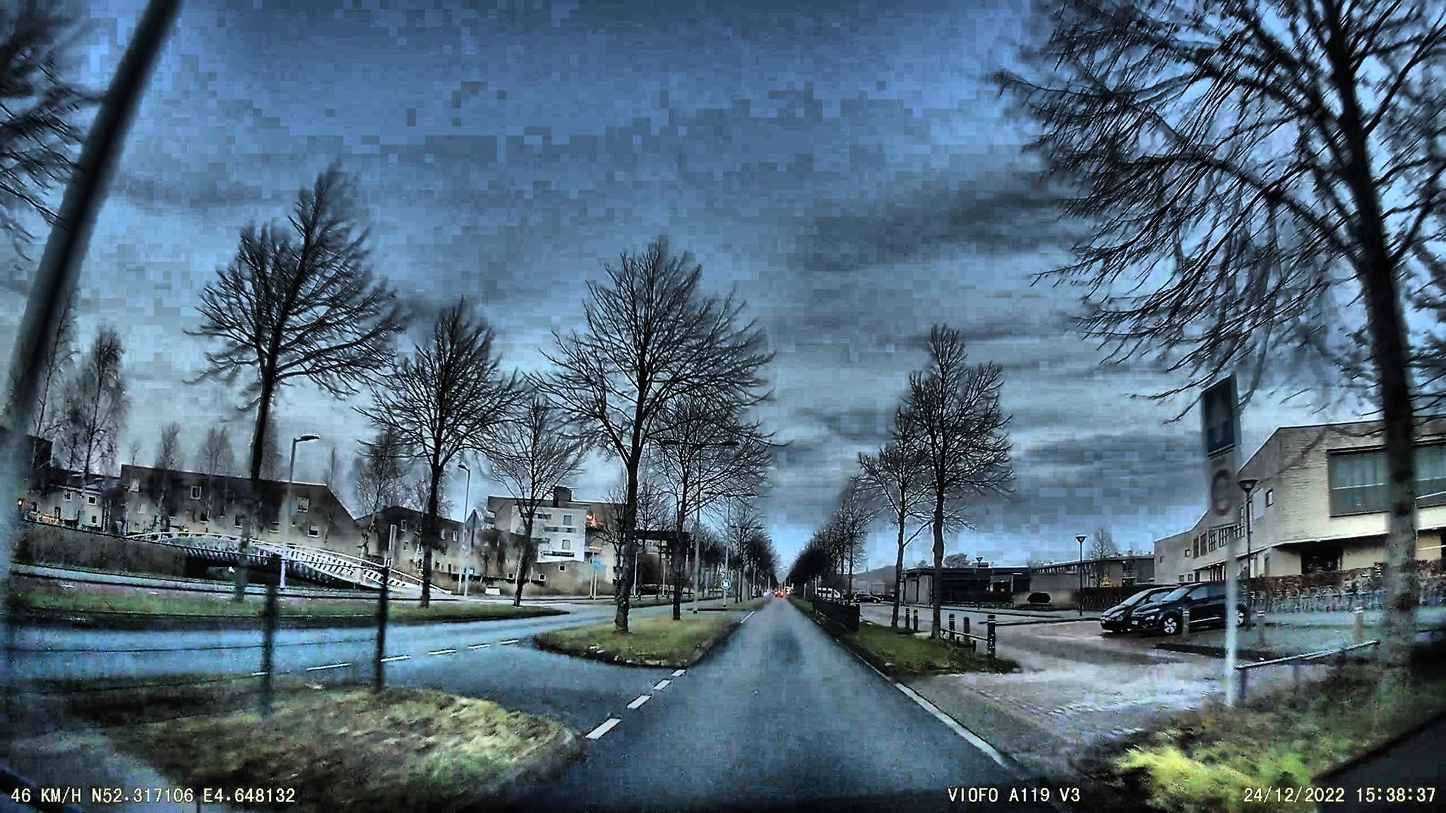Roads: (382, 604, 1211, 813)
